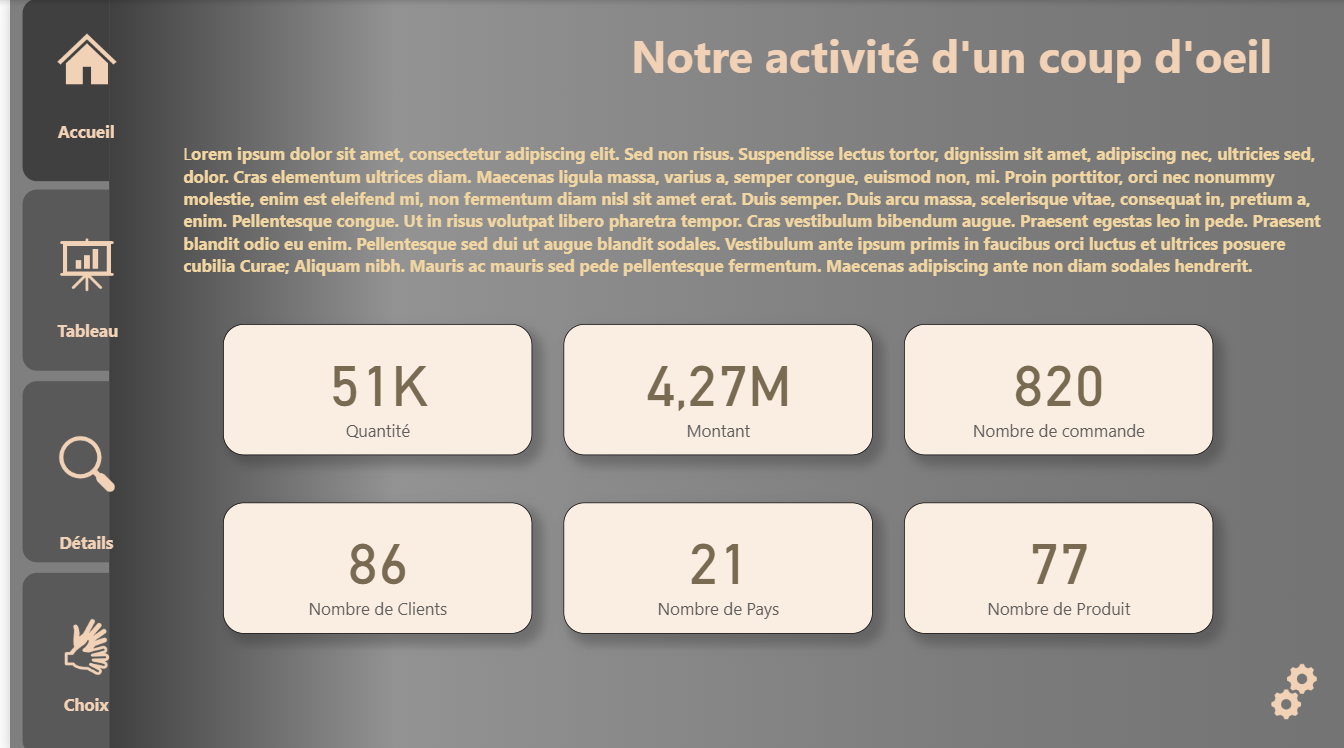

The page's visual inventory and layout, read from the dashboard file:
{"tool":"powerbi","page":{"name":"Page 1","canvas":[1280,720],"ordinal":0},"visuals":[{"type":"textbox","box":[546.9,18.4,715.4,81.2],"z":0},{"type":"textbox","box":[160.9,130.2,1101.4,168.5],"z":1000},{"type":"card","fields":{"Values":["Sum(commande client produit.Quantité)"]},"box":[203.2,308.9,295.7,125.6],"z":2000},{"type":"card","fields":{"Values":["Sum(commande client produit.Montant)"]},"box":[528.8,308.9,295.7,125.6],"z":3000},{"type":"card","fields":{"Values":["Count(commande client produit.IDcommande)"]},"box":[854.3,308.9,295.7,125.6],"z":4000},{"type":"card","fields":{"Values":["Count(commande client produit.IDClient)"]},"box":[203.2,480.5,295.7,125.6],"z":5000},{"type":"card","fields":{"Values":["Count(commande client produit.Pays)"]},"box":[528.8,480.5,295.7,125.6],"z":6000},{"type":"card","fields":{"Values":["Count(commande client produit.IDProduit)"]},"box":[854.3,480.5,295.7,125.6],"z":7000},{"type":"image","box":[36.4,214.5,75.1,75.1],"z":8000},{"type":"image","box":[36.4,18.4,75.1,75.1],"z":9000},{"type":"image","box":[36.4,580.6,75.1,75.1],"z":10000},{"type":"image","box":[36.4,406,75.1,75.1],"z":11000},{"type":"textbox","box":[23,108.8,99.6,42.9],"z":12000},{"type":"textbox","box":[24.5,298.7,99.6,42.9],"z":13000},{"type":"textbox","box":[23,500.9,99.6,42.9],"z":14000},{"type":"textbox","box":[23,655.7,99.6,42.9],"z":15000},{"type":"shape","box":[23,0,99.6,183.8],"z":15001},{"type":"shape","box":[24.5,188.4,99.6,183.8],"z":15002},{"type":"shape","box":[24.5,372.3,99.6,183.8],"z":15003},{"type":"shape","box":[23,569.9,99.6,150.1],"z":15004},{"type":"image","box":[1188.7,623.7,74.4,74.4],"z":15005}]}

Visuals, with their boxes in screenshot pixels (x1, y1, x2, y2), scaled from the page's 1280x720 canvas onto the 1344x748 screenshot:
textbox: {"left": 574, "top": 19, "right": 1325, "bottom": 103}
textbox: {"left": 169, "top": 135, "right": 1325, "bottom": 310}
card - Sum(commande client produit.Quantité): {"left": 213, "top": 321, "right": 524, "bottom": 451}
card - Sum(commande client produit.Montant): {"left": 555, "top": 321, "right": 866, "bottom": 451}
card - Count(commande client produit.IDcommande): {"left": 897, "top": 321, "right": 1208, "bottom": 451}
card - Count(commande client produit.IDClient): {"left": 213, "top": 499, "right": 524, "bottom": 630}
card - Count(commande client produit.Pays): {"left": 555, "top": 499, "right": 866, "bottom": 630}
card - Count(commande client produit.IDProduit): {"left": 897, "top": 499, "right": 1208, "bottom": 630}
image: {"left": 38, "top": 223, "right": 117, "bottom": 301}
image: {"left": 38, "top": 19, "right": 117, "bottom": 97}
image: {"left": 38, "top": 603, "right": 117, "bottom": 681}
image: {"left": 38, "top": 422, "right": 117, "bottom": 500}
textbox: {"left": 24, "top": 113, "right": 129, "bottom": 158}
textbox: {"left": 26, "top": 310, "right": 130, "bottom": 355}
textbox: {"left": 24, "top": 520, "right": 129, "bottom": 565}
textbox: {"left": 24, "top": 681, "right": 129, "bottom": 726}
shape: {"left": 24, "top": 0, "right": 129, "bottom": 191}
shape: {"left": 26, "top": 196, "right": 130, "bottom": 387}
shape: {"left": 26, "top": 387, "right": 130, "bottom": 578}
shape: {"left": 24, "top": 592, "right": 129, "bottom": 747}
image: {"left": 1248, "top": 648, "right": 1326, "bottom": 725}
